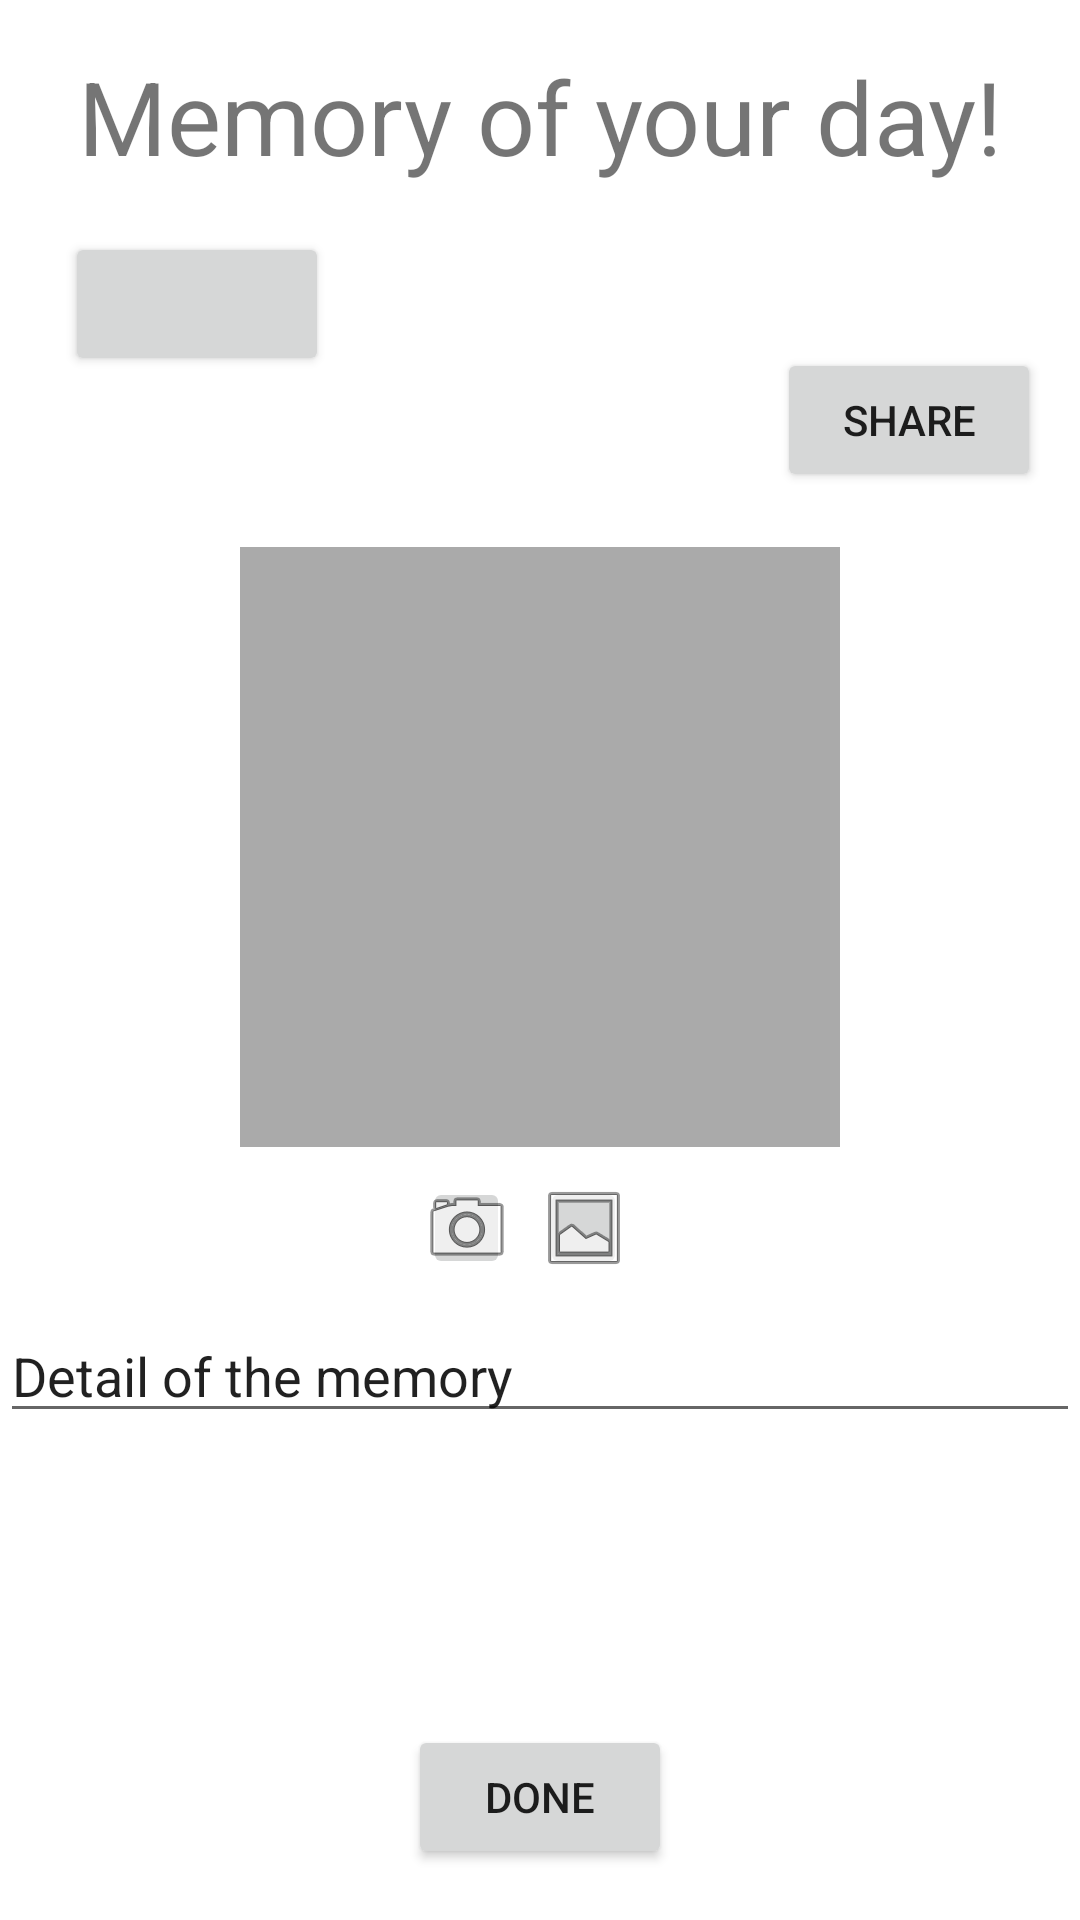

Named icons in this screenshot (1080px×1920px) and their bounding boxes, [left=x1, top=y1, right=x2, bottom=y2]:
camera: [left=430, top=1195, right=504, bottom=1261]
gallery: [left=548, top=1192, right=620, bottom=1264]
